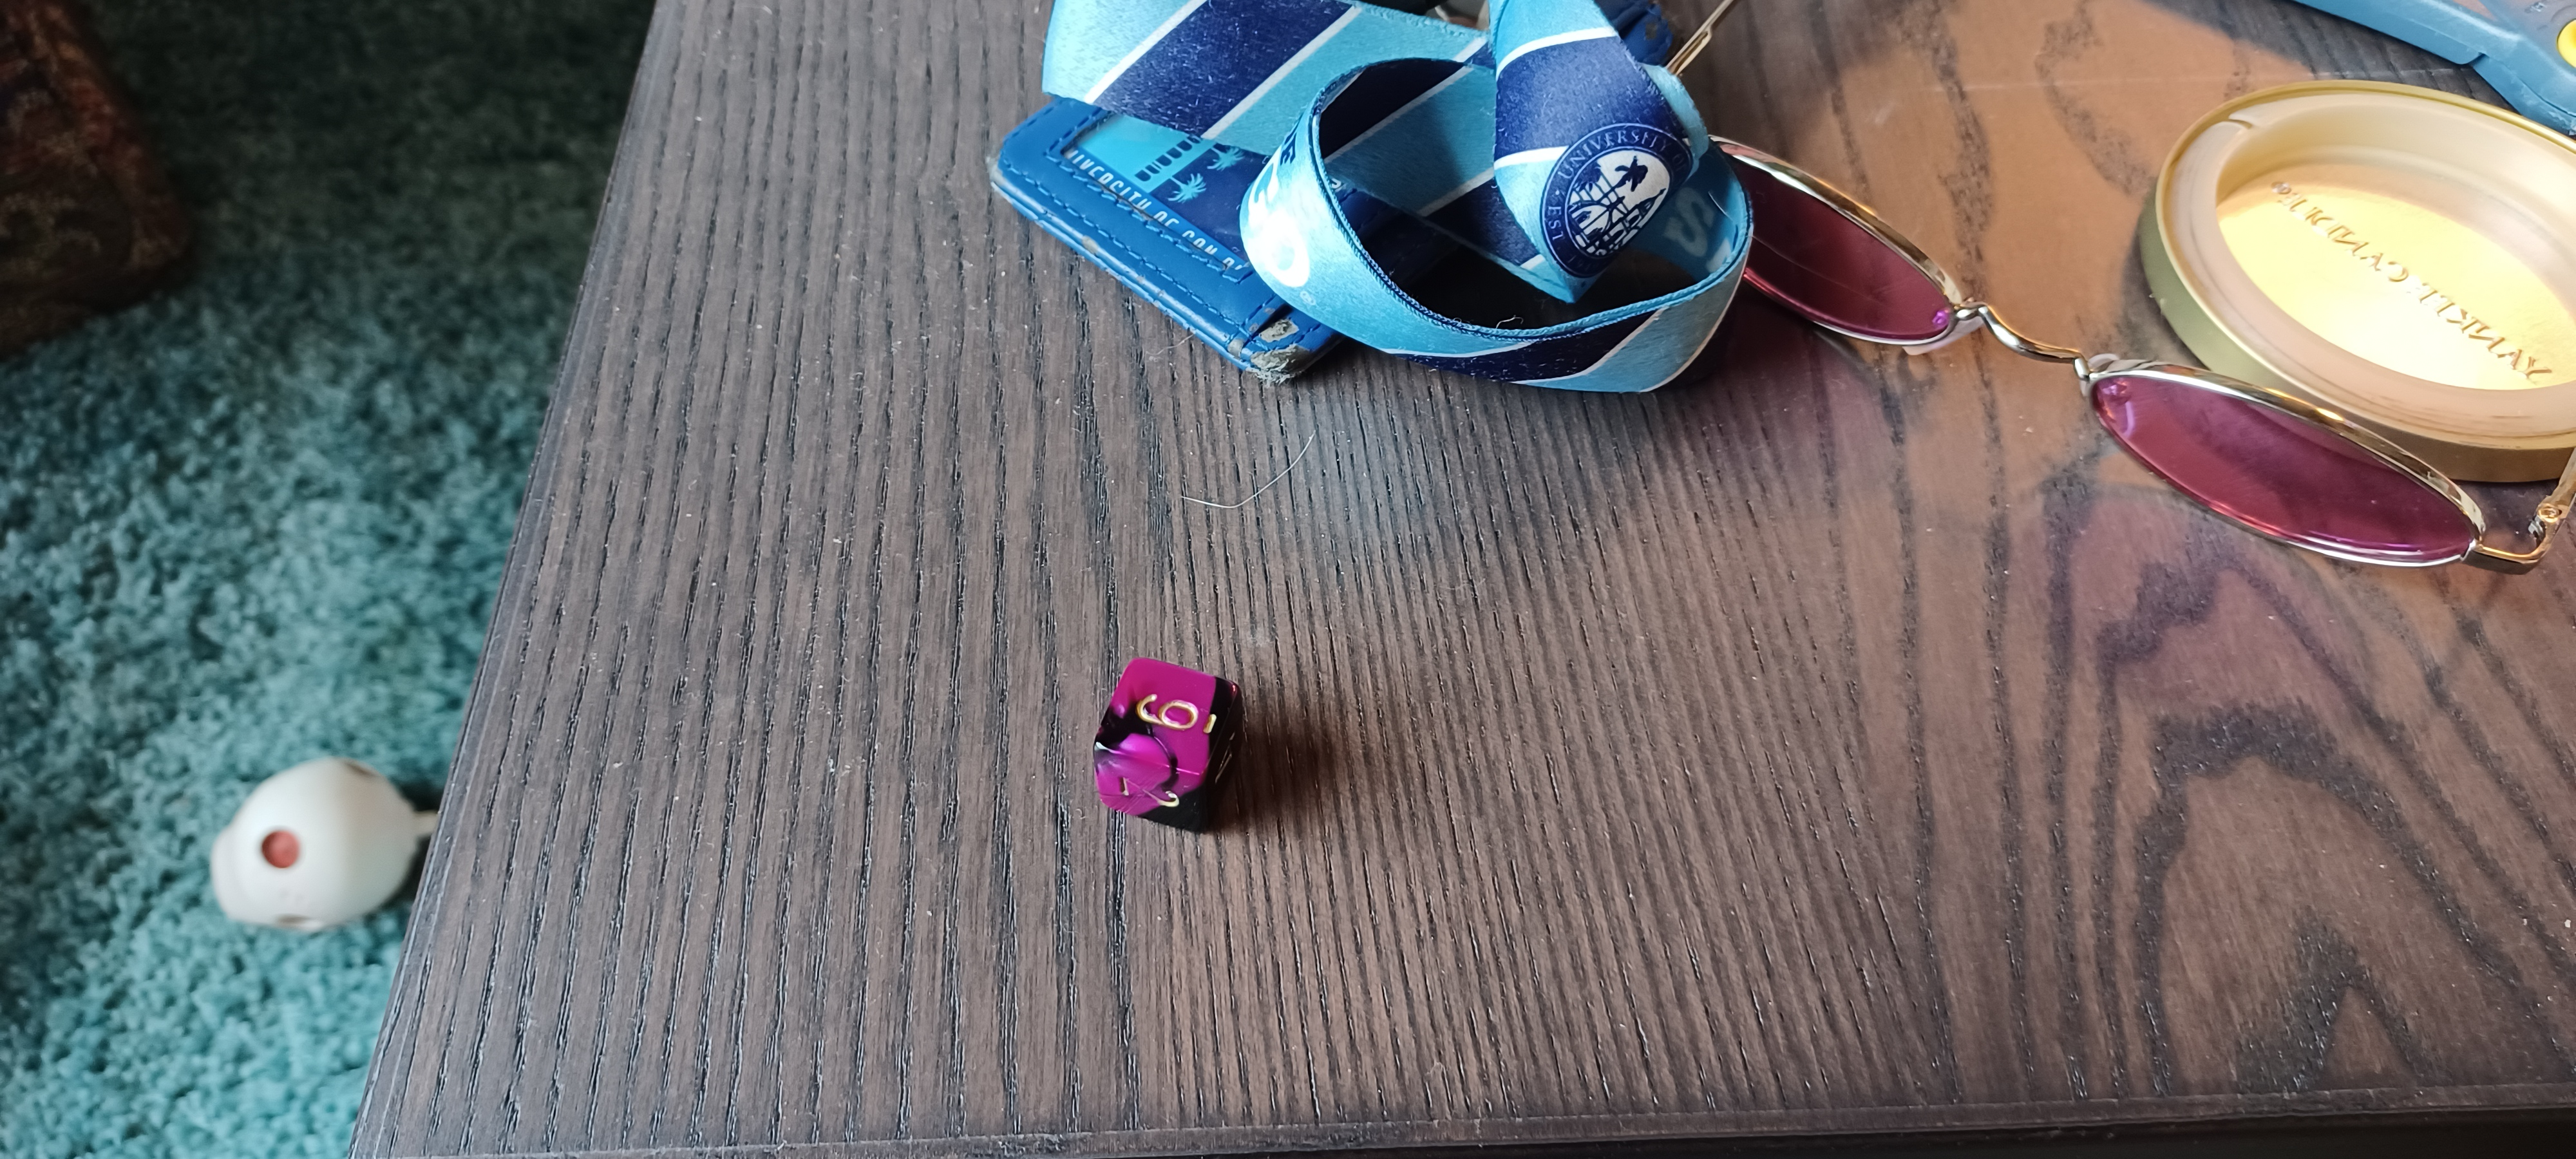six: (1051, 619, 1295, 864)
